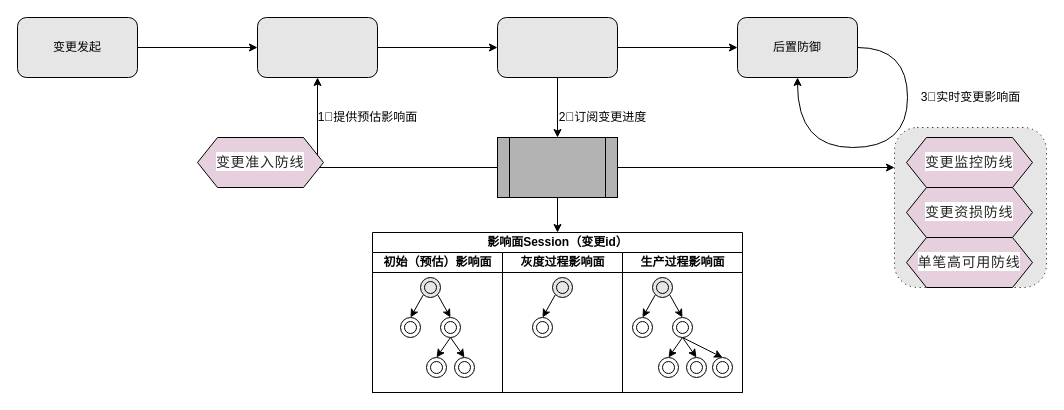
Some shapes in this 1064 by 410 pixel diagram are drawn without their labels. Each missing label, with the centre of its shape:
"RMC" goes at point (557, 167).
"前置防御" goes at point (317, 47).
"变更" goes at point (557, 47).
